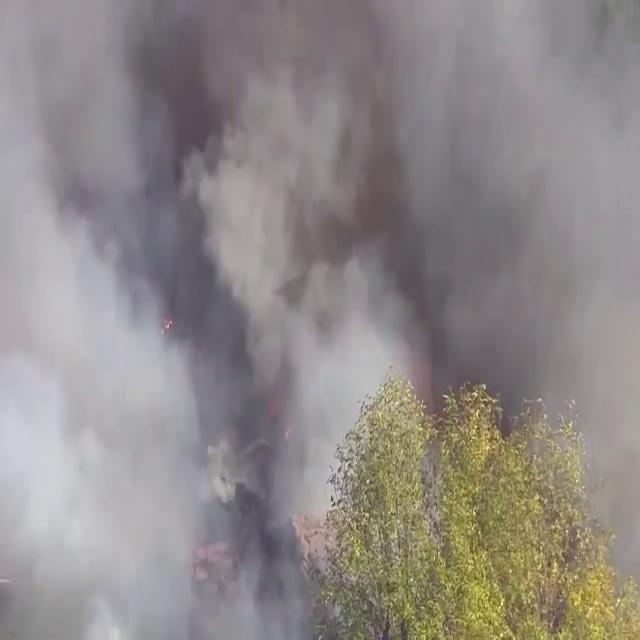Smoke: (1, 0, 638, 636)
